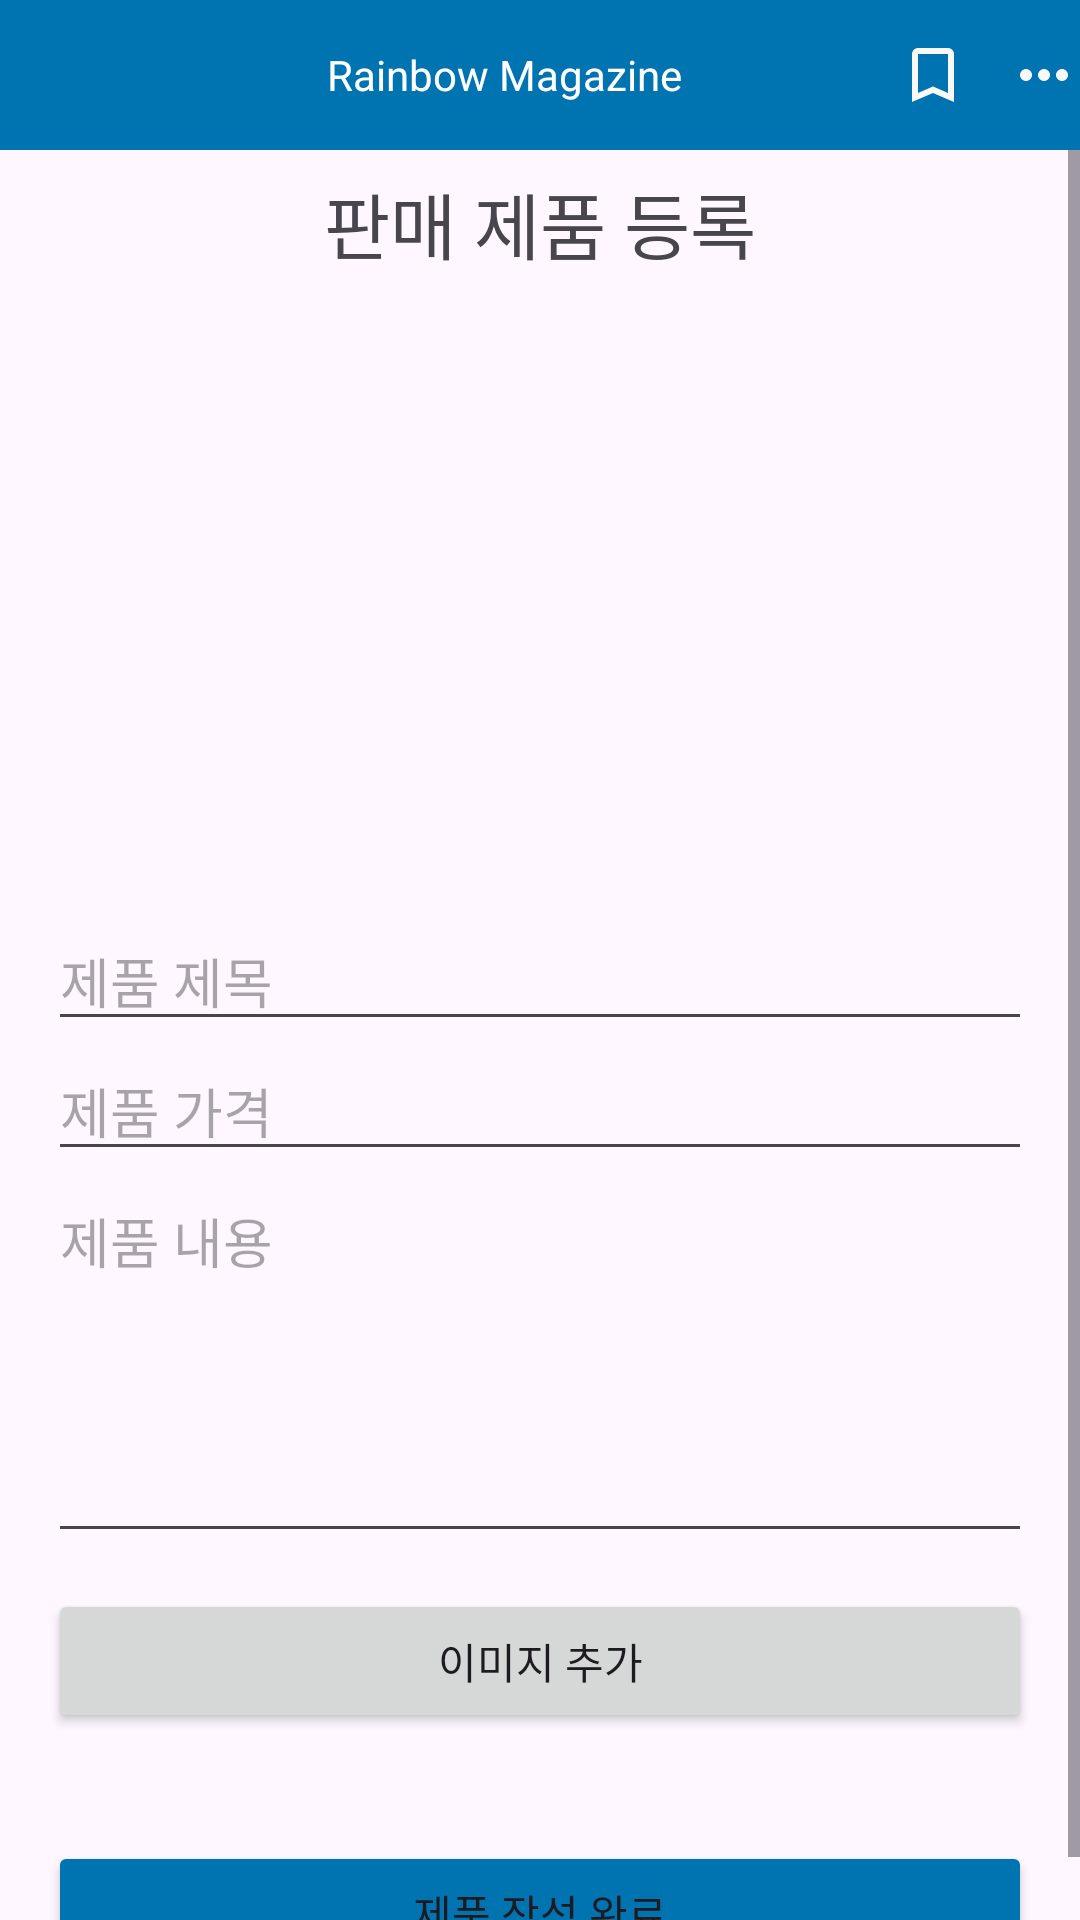

Icons on this 1080x1920 Android screen, each with its box as {"x1": x1, "y1": y1, "x2": x2, "y2": y2}:
bookmark: {"x1": 912, "y1": 48, "x2": 954, "y2": 102}
more horiz: {"x1": 1020, "y1": 69, "x2": 1068, "y2": 81}
